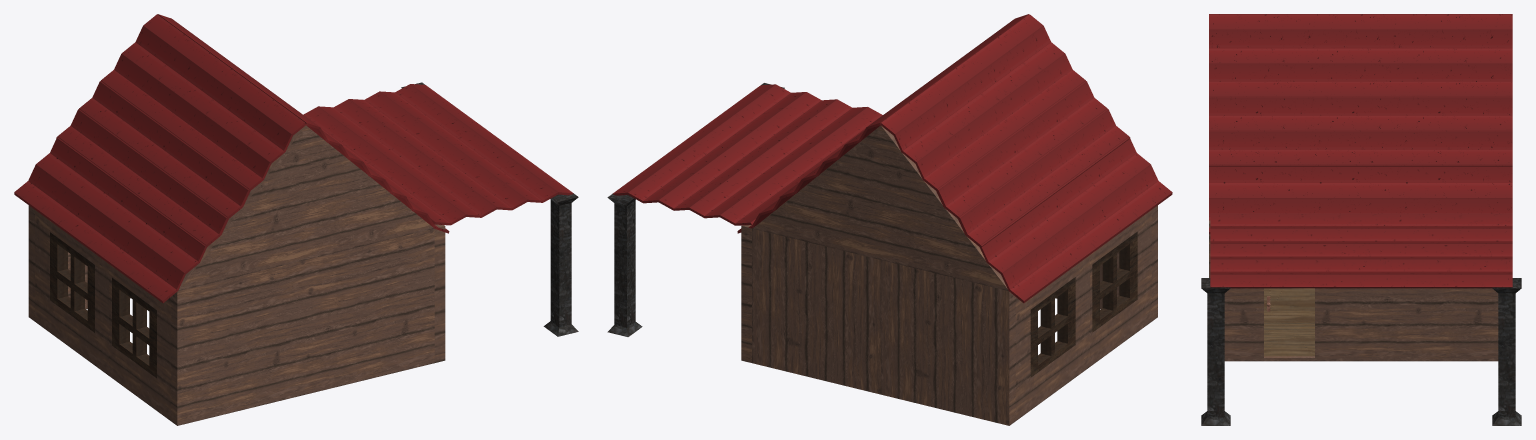
The model's file is Casa_Normal_Ardosia.fbx.
3 renders of one model, left to right at view 1: azimuth 30°, elevation 25°; view 2: azimuth 150°, elevation 25°; view 3: azimuth 270°, elevation 25°, orthographic. The views are drawn at different scales.
Parts seen in each view (by area): view 1: Casa_Normal_ParedesVigasJanelas, Casa_Normal_Telhado; view 2: Casa_Normal_ParedesVigasJanelas, Casa_Normal_Telhado; view 3: Casa_Normal_Telhado, Casa_Normal_ParedesVigasJanelas, Casa_Normal_Porta.
Part boxes in pixels (x1,y1,x2,y2): Casa_Normal_ParedesVigasJanelas: [28, 82, 578, 425]; Casa_Normal_Telhado: [14, 14, 573, 302]; Casa_Normal_ParedesVigasJanelas: [607, 83, 1157, 425]; Casa_Normal_Telhado: [612, 14, 1172, 303]; Casa_Normal_Telhado: [1209, 14, 1512, 288]; Casa_Normal_ParedesVigasJanelas: [1201, 220, 1521, 425]; Casa_Normal_Porta: [1264, 288, 1314, 356].
Bounding box in the file's own units: 961 × 606 × 633.
Materials: 9 (9 with a texture image).
